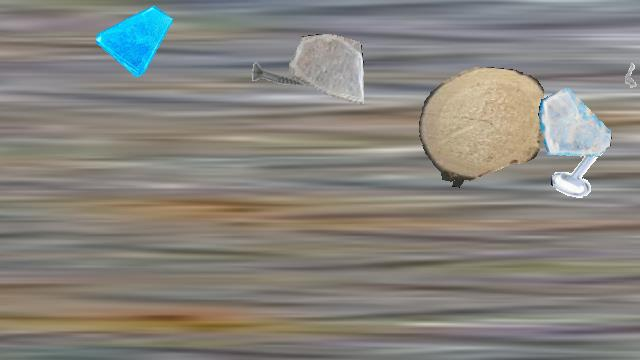glass: (96, 1, 172, 77), (289, 34, 363, 108), (538, 85, 612, 159)
metal: (250, 43, 312, 105), (551, 139, 613, 201), (612, 52, 640, 90)
wood: (419, 67, 543, 189)
